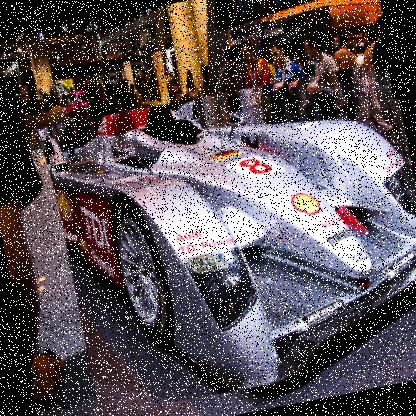Car: (43, 61, 415, 415), (58, 84, 108, 122)
